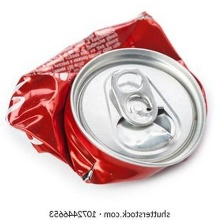can: (3, 8, 211, 187)
